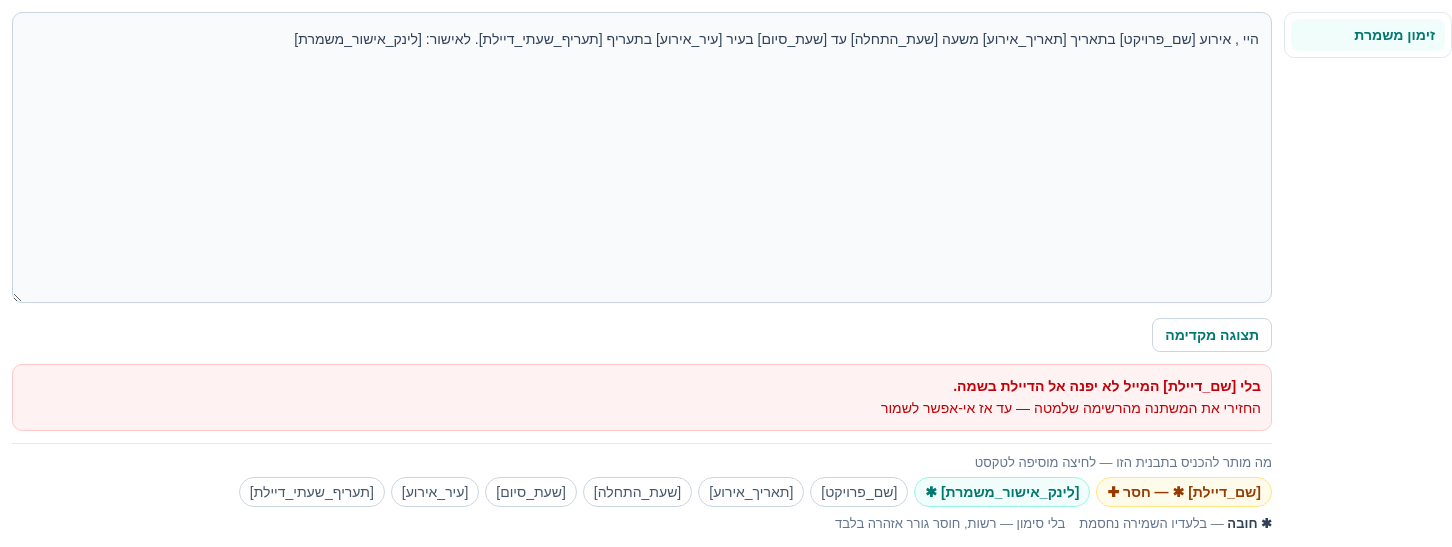
TemplateEditor › A1 — הוורדיקט מחושב מחדש מהגוף החדש: החזרת המשתנה מהצ׳יפ משחררת את החסימה
The image size is (1452, 547).
expect the element with test id "settings-template-blocked" shows "בלי [שם_דיילת]": met, box [953,378,1261,394]
Click the button with test id "settings-template-chip-שם_דיילת": (1184, 492) [1096,477,1272,507]
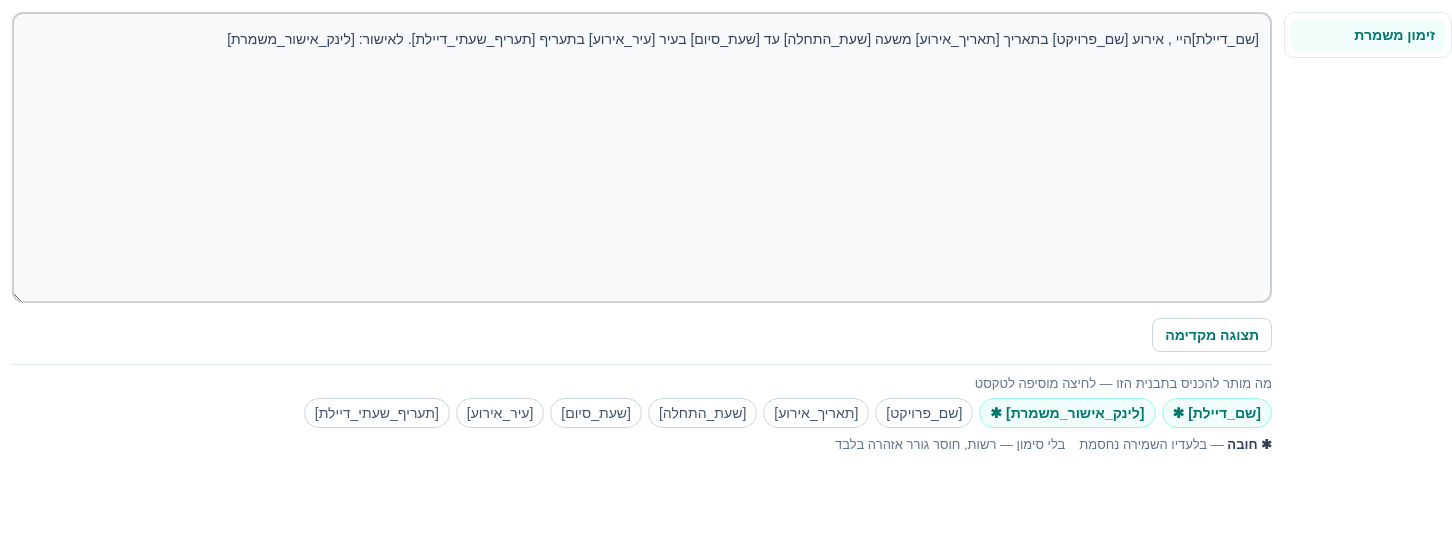
expect the element with test id "settings-template-blocked" is gone: met
